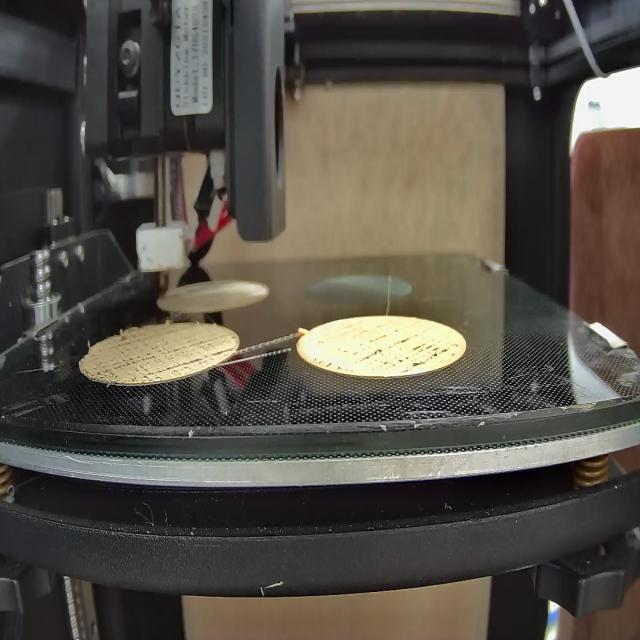under_extrusion: (94, 331, 234, 377), (315, 330, 460, 369)
